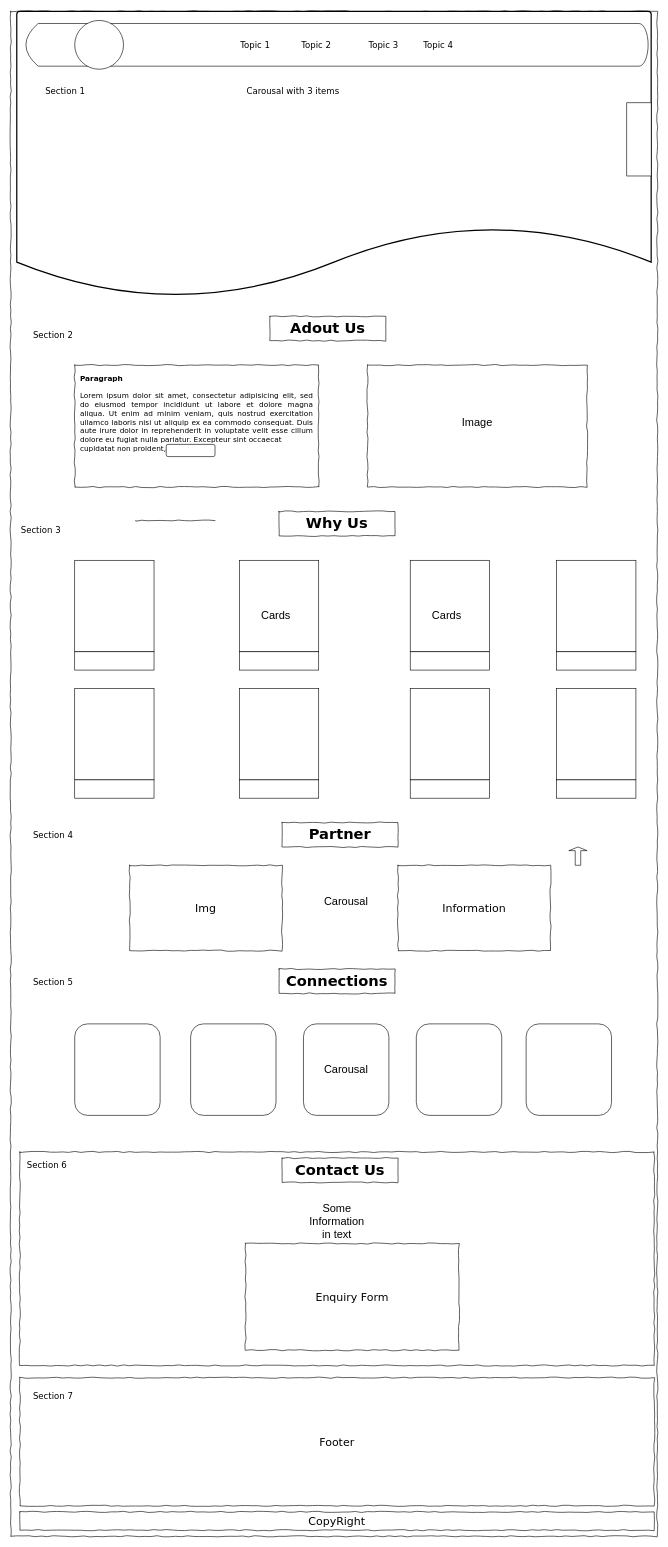
Image size: 668x1547. Some labels were removed from this diagram. Each missing label, with the centre of its shape:
"Logo" goes at pixel 99 44.
"Notifications" goes at pixel 638 139.
"Read More" goes at pixel 190 450.
